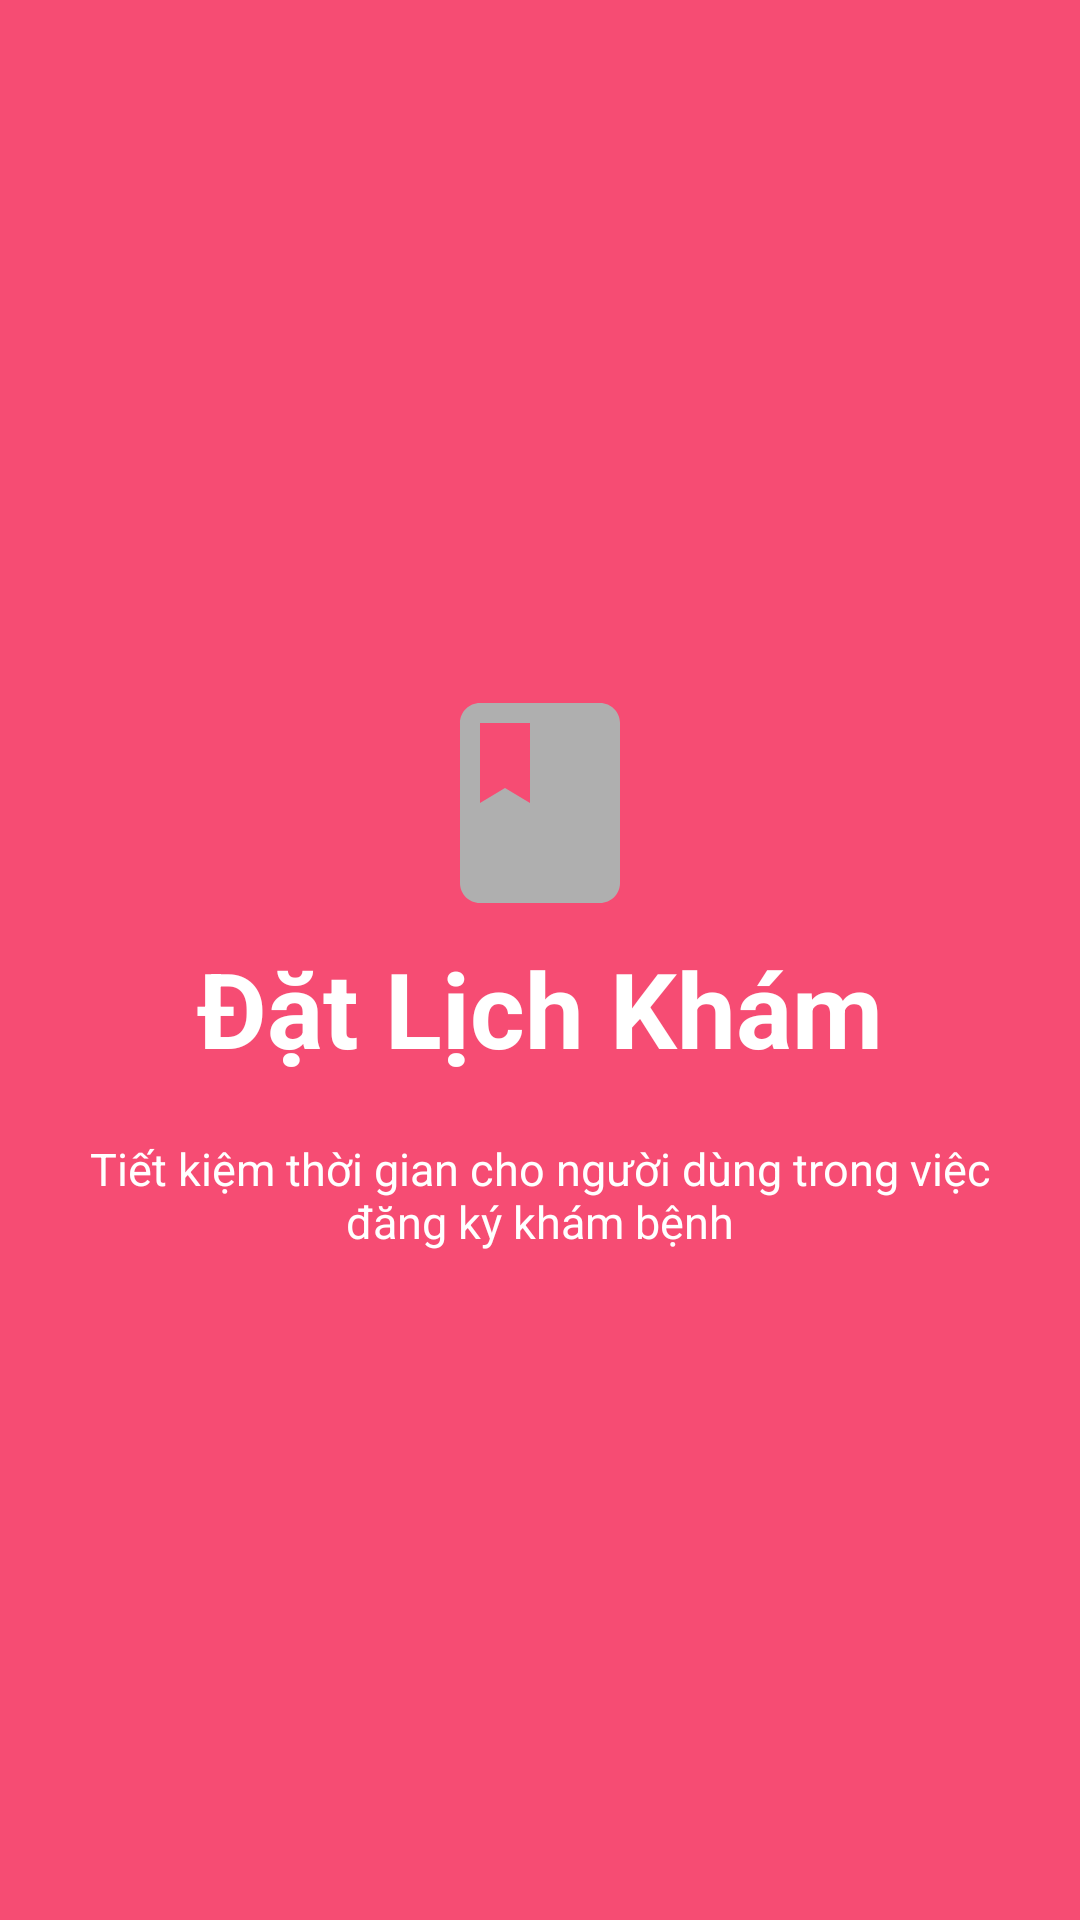

Screen size 1080*1920. Icon name, then its box in pixels as box=[x1, y1, x2, y2]:
book: box=[460, 703, 620, 903]
